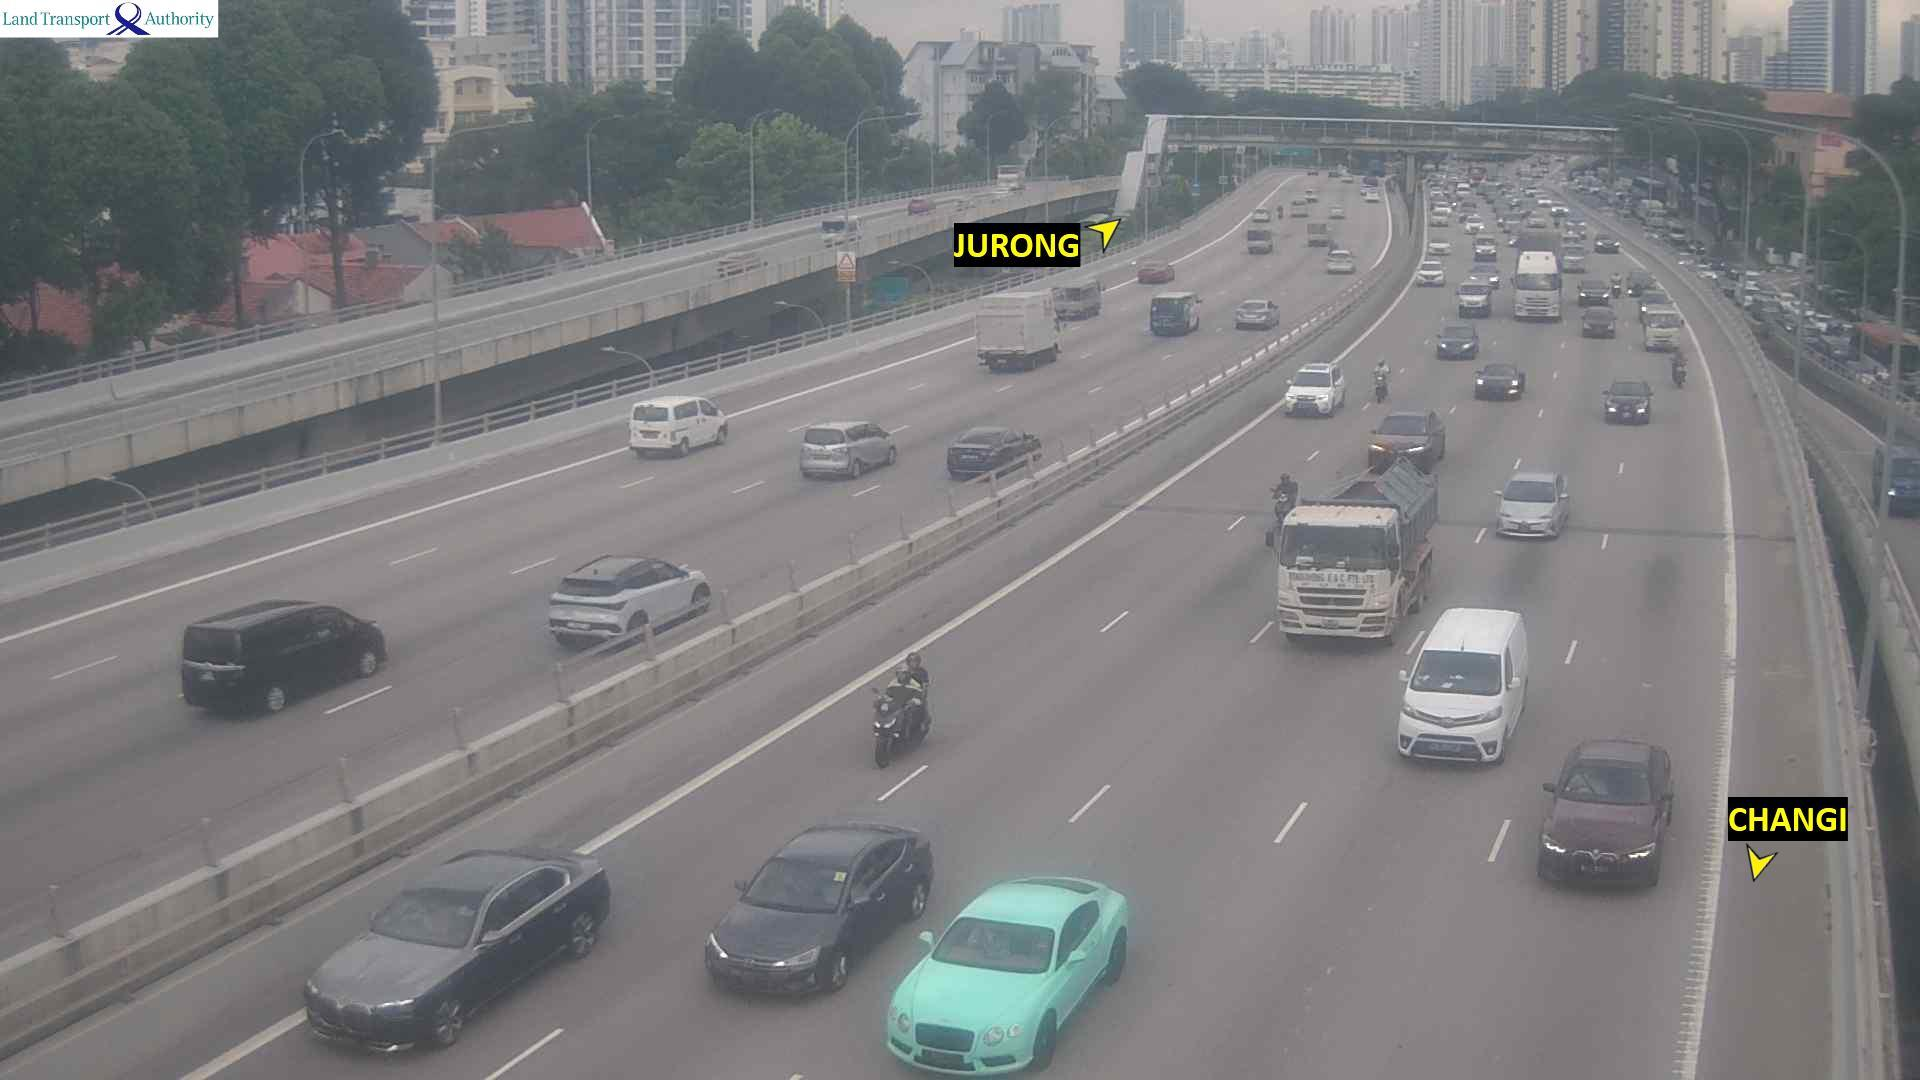cars: (302, 844, 611, 1053), (884, 873, 1129, 1076), (703, 819, 933, 998), (179, 597, 387, 715), (1395, 605, 1529, 764), (1536, 735, 1674, 889), (546, 552, 711, 649), (627, 394, 728, 457), (1492, 460, 1570, 539), (798, 419, 897, 479), (945, 424, 1042, 478), (1366, 407, 1445, 469), (1282, 361, 1345, 417), (1872, 444, 1919, 516), (1600, 378, 1653, 424), (1149, 291, 1200, 335), (1050, 277, 1102, 319), (1473, 361, 1525, 399), (1434, 319, 1479, 359), (1643, 310, 1681, 350), (1233, 298, 1279, 329), (1639, 288, 1681, 321), (820, 213, 861, 245), (1456, 280, 1491, 316), (1580, 305, 1616, 337), (1576, 276, 1611, 304), (1624, 269, 1656, 298), (1465, 262, 1500, 288), (1136, 259, 1174, 282), (1415, 257, 1445, 286), (1325, 247, 1355, 273), (1246, 227, 1272, 253), (1305, 220, 1330, 246), (1560, 248, 1586, 272), (1462, 213, 1488, 236), (1502, 210, 1524, 237), (1471, 237, 1497, 259), (1429, 207, 1451, 231), (1593, 234, 1619, 253), (907, 197, 932, 214), (1288, 197, 1309, 217), (1547, 198, 1570, 216), (1529, 209, 1547, 231), (1427, 238, 1450, 254), (1303, 186, 1323, 204), (1566, 212, 1588, 228), (1456, 208, 1479, 223), (1430, 194, 1450, 211), (1456, 181, 1474, 199), (1365, 184, 1382, 203), (1567, 225, 1589, 239), (1251, 207, 1270, 222), (1535, 193, 1553, 208), (1328, 204, 1345, 218), (1359, 182, 1375, 195), (1524, 185, 1542, 196), (1340, 171, 1355, 184), (1306, 166, 1322, 177), (1429, 185, 1443, 197), (1327, 166, 1339, 179), (1447, 172, 1459, 183)
motorcycle: (869, 677, 933, 769), (1270, 472, 1301, 528), (1370, 358, 1394, 411), (1671, 351, 1687, 386), (1611, 270, 1624, 299), (1276, 203, 1287, 223), (1553, 211, 1563, 231)
trucks: (1268, 452, 1438, 644), (974, 289, 1062, 371), (1509, 229, 1560, 321), (1467, 167, 1491, 190)
